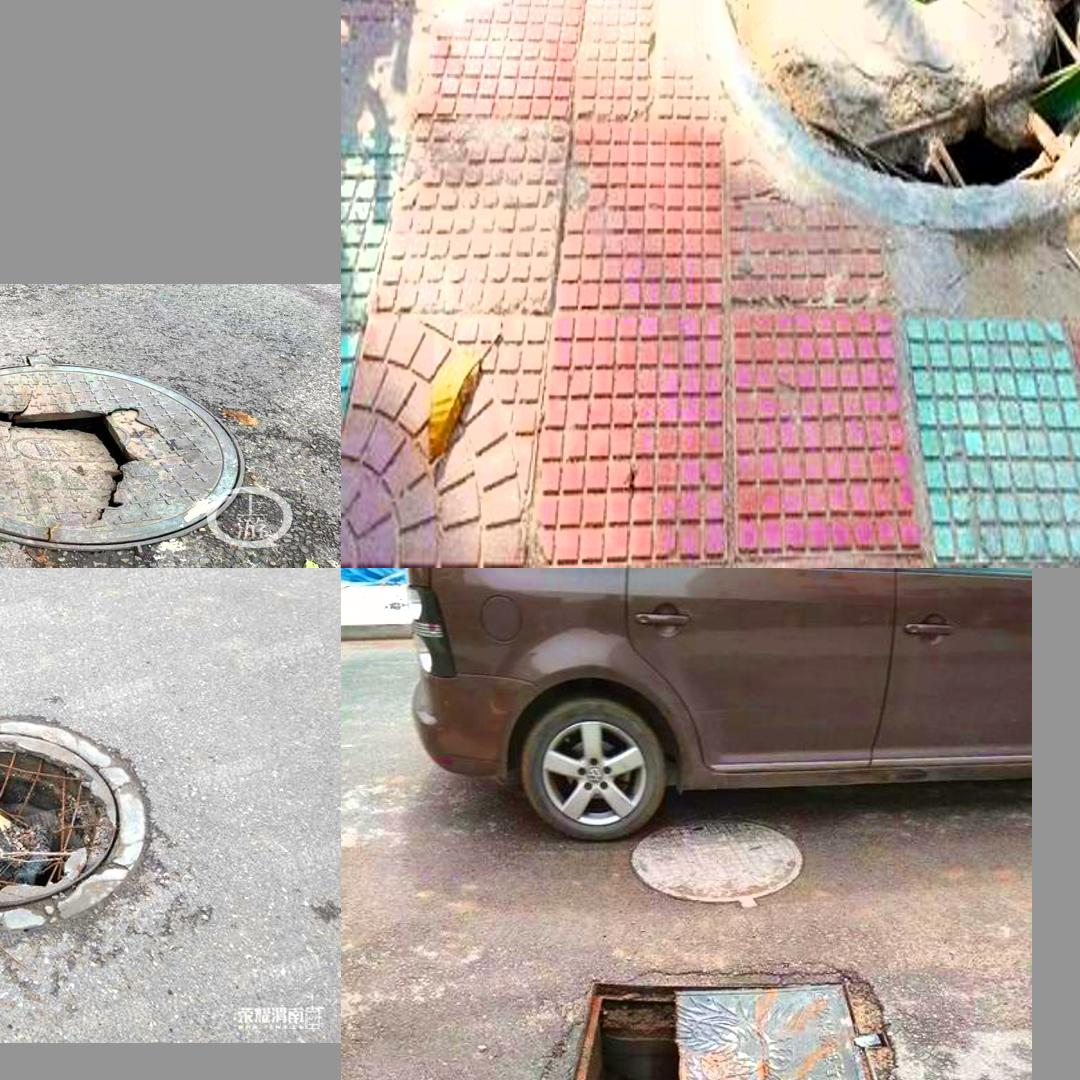broke: (678, 0, 1080, 228), (491, 944, 983, 1080), (0, 360, 276, 549), (0, 704, 159, 931)
